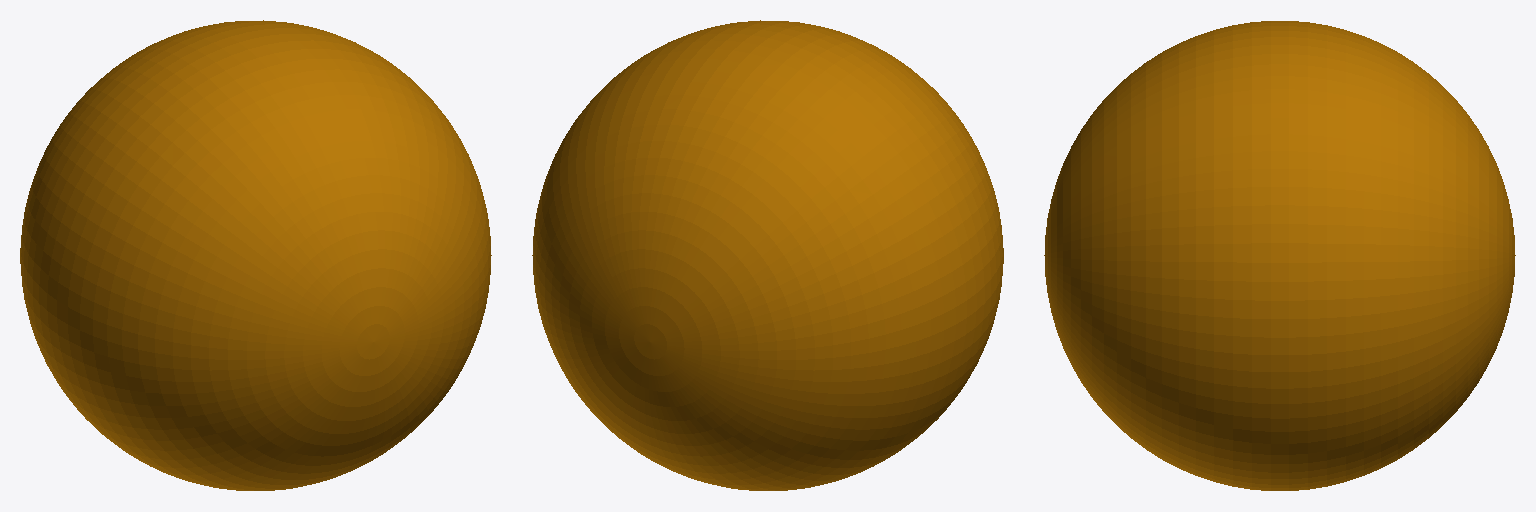
The robot description file, URDF, robot "JACO3_URDF_V10":
<!-- ================================================================================================ -->
<!-- Note: This URDF file and associated content are based on files from the GitHub repository below. -->
<!--       Geometry files were converted as necessary to a format supported by Simscape Multibody.    -->
<!--       Adjustments were made to the URDF file for compatibility with Simscape Multibody.          -->
<!--                                                                                                  -->
<!-- GitHub source: https://github.com/Kinovarobotics/ros_kortex/tree/1.1.4                           -->
<!-- ================================================================================================ -->


<robot
  name="JACO3_URDF_V10" version="1.0">
  <link
    name="base_link">
    <inertial>
      <origin
        xyz="-0.00077898 -4.2629E-05 0.077301"
        rpy="0 0 0" />
      <mass
        value="1.661" />
      <inertia
        ixx="0.0046774"
        ixy="-2.8192E-07"
        ixz="-4.8238E-05"
        iyy="0.0047194"
        iyz="-4.2299E-06"
        izz="0.0019958" />
    </inertial>
    <visual>
      <origin
        xyz="0 0 0"
        rpy="0 0 0" />
      <geometry>
        <mesh
          filename="kg3_base_link.STL" />
      </geometry>
      <material
        name="">
        <color
          rgba="0.6641 0.0195 0.0195 1" />
      </material>
    </visual>
    <collision>
      <origin
        xyz="0 0 0"
        rpy="0 0 0" />
      <geometry>
        <mesh
          filename="kg3_base_link.STL" />
      </geometry>
    </collision>
  </link>
  <link
    name="Shoulder_Link">
    <inertial>
      <origin
        xyz="-2.2888E-05 -0.010511 -0.075159"
        rpy="0 0 0" />
      <mass
        value="2.009" />
      <inertia
        ixx="0.0045081"
        ixy="-8.5826E-07"
        ixz="-1.8997E-06"
        iyy="0.0047695"
        iyz="-0.00045534"
        izz="0.0013903" />
    </inertial>
    <visual>
      <origin
        xyz="0 0 0"
        rpy="0 0 0" />
      <geometry>
        <mesh
          filename="kg3_Shoulder_Link.STL" />
      </geometry>
      <material
        name="">
        <color
          rgba="0.4023 0.7773 0.9180 1" />
      </material>
    </visual>
    <collision>
      <origin
        xyz="0 0 0"
        rpy="0 0 0" />
      <geometry>
        <mesh
          filename="kg3_Shoulder_Link.STL" />
      </geometry>
    </collision>
  </link>
  <joint
    name="Actuator1"
    type="continuous">
    <origin
      xyz="0 0 0.15643"
      rpy="3.1416 0 0" />
    <parent
      link="base_link" />
    <child
      link="Shoulder_Link" />
    <axis
      xyz="0 0 1" />
    <limit
      effort="39"
      velocity="0.8727" />
  </joint>
  <link
    name="HalfArm1_Link">
    <inertial>
      <origin
        xyz="-2.7821E-05 -0.097298 -0.012693"
        rpy="0 0 0" />
      <mass
        value="1.106" />
      <inertia
        ixx="0.0089168"
        ixy="-2.8995E-06"
        ixz="-1.6642E-07"
        iyy="0.00073106"
        iyz="0.00051768"
        izz="0.0090416" />
    </inertial>
    <visual>
      <origin
        xyz="0 0 0"
        rpy="0 0 0" />
      <geometry>
        <mesh
          filename="kg3_HalfArm1_Link.STL" />
      </geometry>
      <material
        name="">
        <color
          rgba="0.7227 0.4883 0.0625 1" />
      </material>
    </visual>
    <collision>
      <origin
        xyz="0 0 0"
        rpy="0 0 0" />
      <geometry>
        <mesh
          filename="kg3_HalfArm1_Link.STL" />
      </geometry>
    </collision>
  </link>
  <joint
    name="Actuator2"
    type="revolute">
    <origin
      xyz="0 0.005375 -0.12838"
      rpy="1.5708 0 0" />
    <parent
      link="Shoulder_Link" />
    <child
      link="HalfArm1_Link" />
    <axis
      xyz="0 0 1" />
    <limit
      lower="-2.2000"
      upper="2.2000"
      effort="39"
      velocity="0.8727" />
  </joint>
  <link
    name="HalfArm2_Link">
    <inertial>
      <origin
        xyz="2.9808E-05 -0.0062391 -0.11552"
        rpy="0 0 0" />
      <mass
        value="1.106" />
      <inertia
        ixx="0.0088707"
        ixy="2.3435E-07"
        ixz="-3.3202E-06"
        iyy="0.0090034"
        iyz="-0.00050415"
        izz="0.00071859" />
    </inertial>
    <visual>
      <origin
        xyz="0 0 0"
        rpy="0 0 0" />
      <geometry>
        <mesh
          filename="kg3_HalfArm2_Link.STL" />
      </geometry>
      <material
        name="">
        <color
          rgba="0.6641 0.0195 0.0195 1" />
      </material>
    </visual>
    <collision>
      <origin
        xyz="0 0 0"
        rpy="0 0 0" />
      <geometry>
        <mesh
          filename="kg3_HalfArm2_Link.STL" />
      </geometry>
    </collision>
  </link>
  <joint
    name="Actuator3"
    type="continuous">
    <origin
      xyz="0 -0.21038 -0.006375"
      rpy="-1.5708 0 0" />
    <parent
      link="HalfArm1_Link" />
    <child
      link="HalfArm2_Link" />
    <axis
      xyz="0 0 1" />
    <limit
      effort="39"
      velocity="0.8727" />
  </joint>
  <link
    name="ForeArm_Link">
    <inertial>
      <origin
        xyz="-1.1024E-05 -0.075357 -0.014085"
        rpy="0 0 0" />
      <mass
        value="0.895" />
      <inertia
        ixx="0.0067339"
        ixy="6.9646E-07"
        ixz="-2.2424E-08"
        iyy="0.00045088"
        iyz="0.00038999"
        izz="0.0068613" />
    </inertial>
    <visual>
      <origin
        xyz="0 0 0"
        rpy="0 0 0" />
      <geometry>
        <mesh
          filename="kg3_ForeArm_Link.STL" />
      </geometry>
      <material
        name="">
        <color
          rgba="0.4023 0.7773 0.9180 1" />
      </material>
    </visual>
    <collision>
      <origin
        xyz="0 0 0"
        rpy="0 0 0" />
      <geometry>
        <mesh
          filename="kg3_ForeArm_Link.STL" />
      </geometry>
    </collision>
  </link>
  <joint
    name="Actuator4"
    type="revolute">
    <origin
      xyz="0 0.006375 -0.21038"
      rpy="1.5708 0 0" />
    <parent
      link="HalfArm2_Link" />
    <child
      link="ForeArm_Link" />
    <axis
      xyz="0 0 1" />
    <limit
      lower="-2.5656"
      upper="2.5656"
      effort="39"
      velocity="0.8727" />
  </joint>
  <link
    name="Wrist1_Link">
    <inertial>
      <origin
        xyz="-3.2964E-07 -0.009617 -0.062968"
        rpy="0 0 0" />
      <mass
        value="0.654" />
      <inertia
        ixx="0.0013311"
        ixy="-4.5849E-10"
        ixz="-4.2678E-10"
        iyy="0.0013282"
        iyz="-0.00022936"
        izz="0.00030696" />
    </inertial>
    <visual>
      <origin
        xyz="0 0 0"
        rpy="0 0 0" />
      <geometry>
        <mesh
          filename="kg3_Wrist1_Link.STL" />
      </geometry>
      <material
        name="">
        <color
          rgba="0.7227 0.4883 0.0625 1" />
      </material>
    </visual>
    <collision>
      <origin
        xyz="0 0 0"
        rpy="0 0 0" />
      <geometry>
        <mesh
          filename="kg3_Wrist1_Link.STL" />
      </geometry>
    </collision>
  </link>
  <joint
    name="Actuator5"
    type="continuous">
    <origin
      xyz="0 -0.20843 -0.006375"
      rpy="-1.5708 0 0" />
    <parent
      link="ForeArm_Link" />
    <child
      link="Wrist1_Link" />
    <axis
      xyz="0 0 1" />
    <limit
      effort="9"
      velocity="0.8727" />
  </joint>
  <link
    name="Wrist2_Link">
    <inertial>
      <origin
        xyz="-3.4377E-07 -0.044043 -0.0097804"
        rpy="0 0 0" />
      <mass
        value="0.654" />
      <inertia
        ixx="0.0013422"
        ixy="4.9596E-10"
        ixz="-7.3382E-10"
        iyy="0.00031025"
        iyz="0.00023506"
        izz="0.001336" />
    </inertial>
    <visual>
      <origin
        xyz="0 0 0"
        rpy="0 0 0" />
      <geometry>
        <mesh
          filename="kg3_Wrist2_Link.STL" />
      </geometry>
      <material
        name="">
        <color
          rgba="0.6641 0.0195 0.0195 1" />
      </material>
    </visual>
    <collision>
      <origin
        xyz="0 0 0"
        rpy="0 0 0" />
      <geometry>
        <mesh
          filename="kg3_Wrist2_Link.STL" />
      </geometry>
    </collision>
  </link>
  <joint
    name="Actuator6"
    type="revolute">
    <origin
      xyz="0 0.00017505 -0.10593"
      rpy="1.5708 0 0" />
    <parent
      link="Wrist1_Link" />
    <child
      link="Wrist2_Link" />
    <axis
      xyz="0 0 1" />
    <limit
      lower="-2.0500"
      upper="2.0500"
      effort="9"
      velocity="0.8727" />
  </joint>
  <link
    name="Bracelet_Link">
    <inertial>
      <origin
        xyz="-2.788E-05 -0.0052162 -0.022692"
        rpy="0 0 0" />
      <mass
        value="0.31408" />
      <inertia
        ixx="0.0002264"
        ixy="-4.9091E-07"
        ixz="-2.6238E-07"
        iyy="0.00015697"
        iyz="-4.5614E-05"
        izz="0.00025981" />
    </inertial>
    <visual>
      <origin
        xyz="0 0 0"
        rpy="0 0 0" />
      <geometry>
        <mesh
          filename="kg3_Bracelet_Link.STL" />
      </geometry>
      <material
        name="">
        <color
          rgba="0.4023 0.7773 0.9180 1" />
      </material>
    </visual>
    <collision>
      <origin
        xyz="0 0 0"
        rpy="0 0 0" />
      <geometry>
        <mesh
          filename="kg3_Bracelet_Link.STL" />
      </geometry>
    </collision>
  </link>
  <joint
    name="Actuator7"
    type="continuous">
    <origin
      xyz="0 -0.10593 -0.00017505"
      rpy="-1.5708 0 0" />
    <parent
      link="Wrist2_Link" />
    <child
      link="Bracelet_Link" />
    <axis
      xyz="0 0 1" />
    <limit
      effort="9"
      velocity="0.8727" />
  </joint>
  <link
    name="EndEffector_Link">
    <inertial>
      <origin
        xyz="-0.00017492 0.014824 -0.62969"
        rpy="0 0 0" />
      <mass
        value="0" />
      <inertia
        ixx="0"
        ixy="0"
        ixz="0"
        iyy="0"
        iyz="0"
        izz="0" />
    </inertial>
    <visual>
      <origin
        xyz="0 0 0"
        rpy="0 0 0" />
      <geometry>
        <mesh
          filename="kg3_EndEffector_Link.STL" />
      </geometry>
      <material
        name="">
        <color
          rgba="0.7227 0.4883 0.0625 1" />
      </material>
    </visual>
    <collision>
      <origin
        xyz="0 0 0"
        rpy="0 0 0" />
      <geometry>
        <mesh
          filename="kg3_EndEffector_Link.STL" />
      </geometry>
    </collision>
  </link>
  <joint
    name="Endeffector"
    type="fixed">
    <origin
      xyz="0 0 -0.059525"
      rpy="3.1416 0 0" />
    <parent
      link="Bracelet_Link" />
    <child
      link="EndEffector_Link" />
    <axis
      xyz="0 0 0" />
  </joint>
</robot>

--- What the picture shows (computed from the rendered views, not written in the file) ---
The picture shows the robot from 3 angles, left to right: view 1: azimuth 30°, elevation 25°; view 2: azimuth 150°, elevation 25°; view 3: azimuth 270°, elevation 25°; orthographic projection.
Model JACO3_URDF_V10 with 9 links and 8 joints (3 revolute, 4 continuous, 1 fixed), rooted at base_link, posed all joints at 0.
Links seen in each view (by area): view 1: EndEffector_Link; view 2: EndEffector_Link; view 3: EndEffector_Link.
Boxes of the visible links, x1,y1,x2,y2 form: EndEffector_Link: (20, 20, 491, 490); EndEffector_Link: (532, 20, 1003, 490); EndEffector_Link: (1044, 21, 1515, 490).
Size in the robot's own frame: 0.025 by 0.025 by 0.025 metres.
1 mesh visuals loaded from 9 distinct referenced files (1 binary STL); not drawn: 8 (reference not matched to a file when rendering).